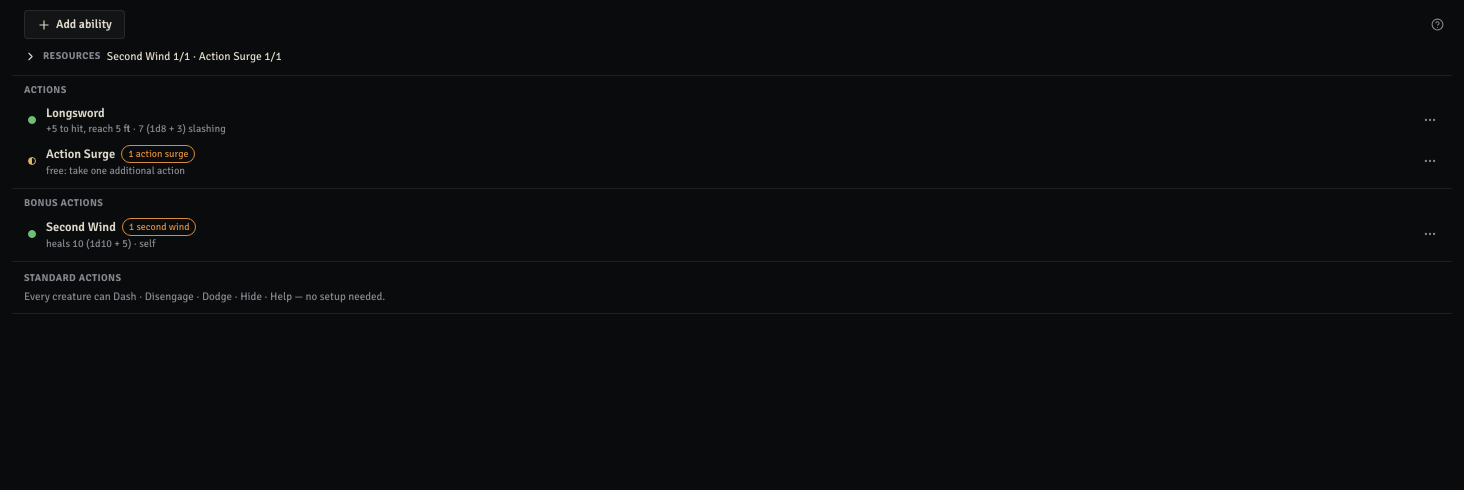
Scenario: controls that were easy to get wrong › keeps a damage line written as an expression, even when it could be dice
Click the button with aria-label "Edit Longsword": (75, 113) [42,100,1410,140]
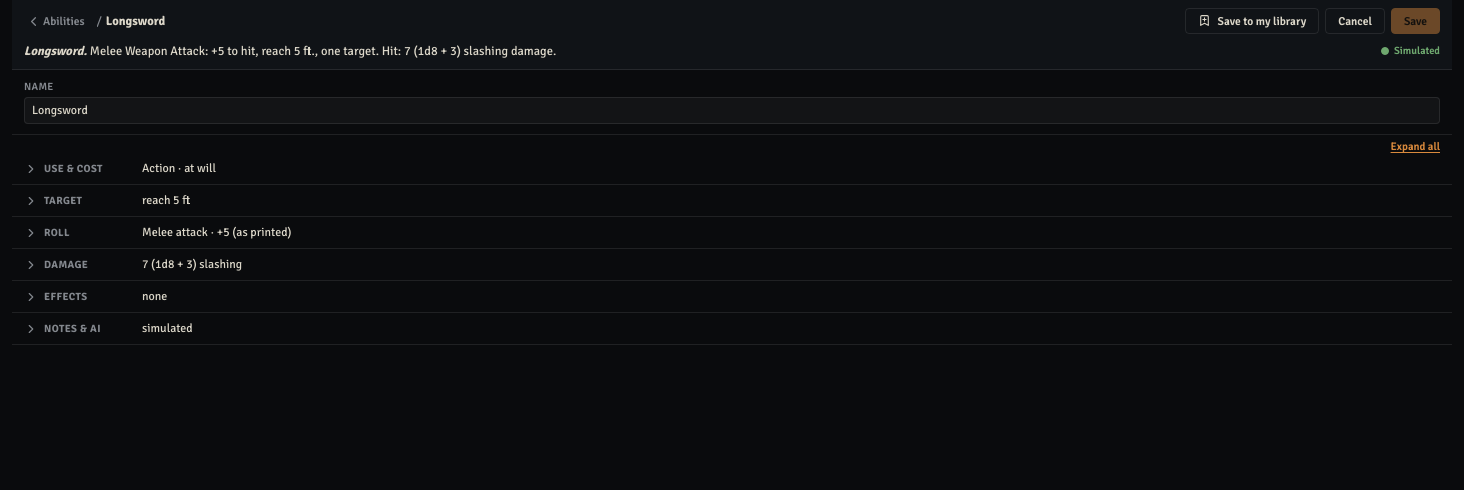
Click the button "Damage 7 (1d8 + 3) slashing": (66, 265) [12,249,1452,280]
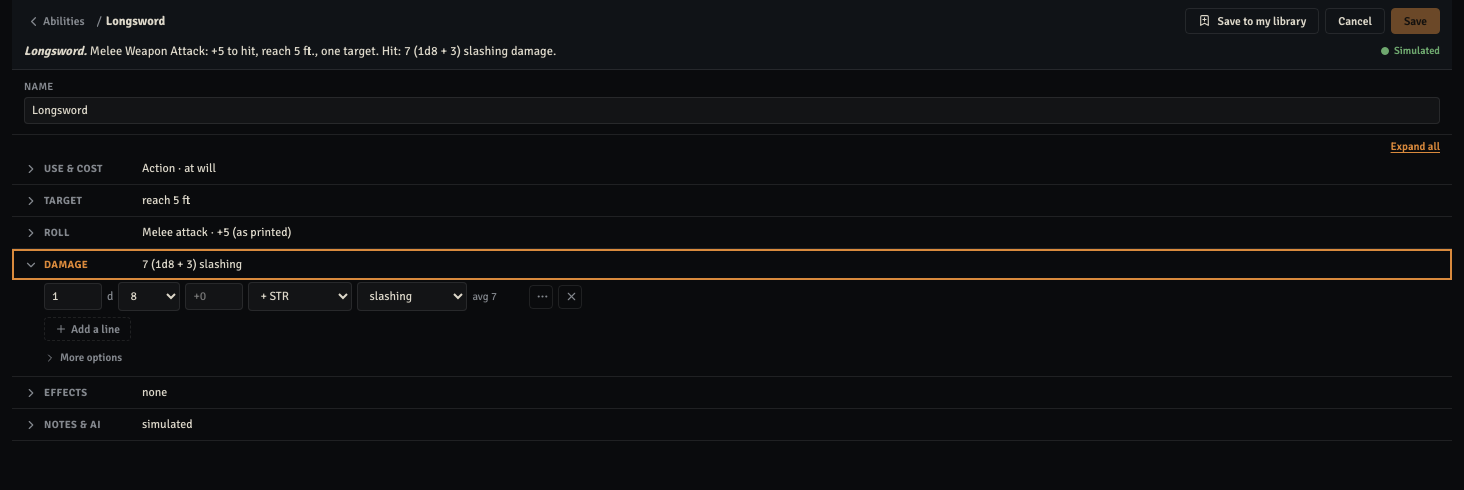
Click the button named "More for damage": (541, 297) [529,285,553,309]
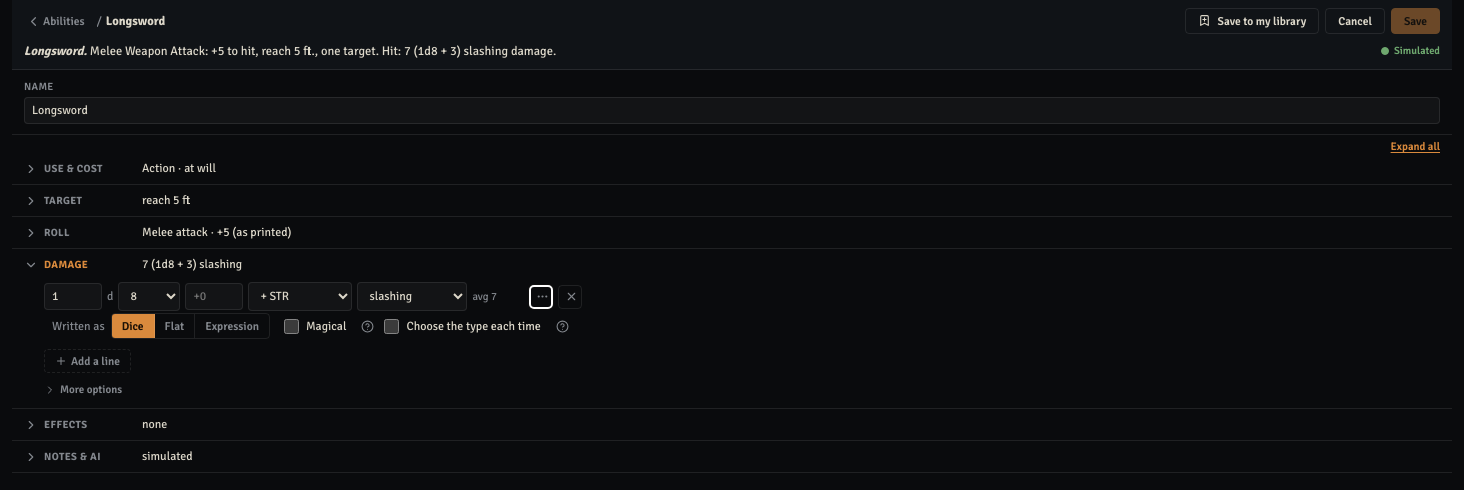
Click the radio button labelled "Expression": (232, 326) [195,314,269,338]
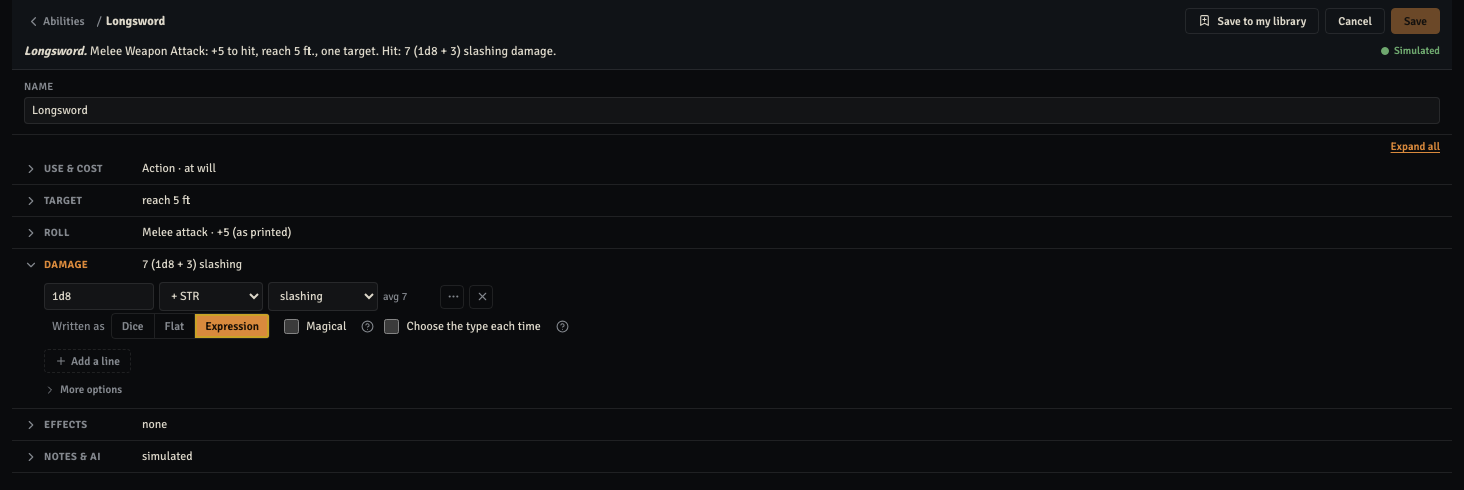
Result: the field named "Damage dice" holds "1d8"
Replace the text in the field named "Damage dice" with "2d6+1d4": (99, 297) [44,283,154,310]
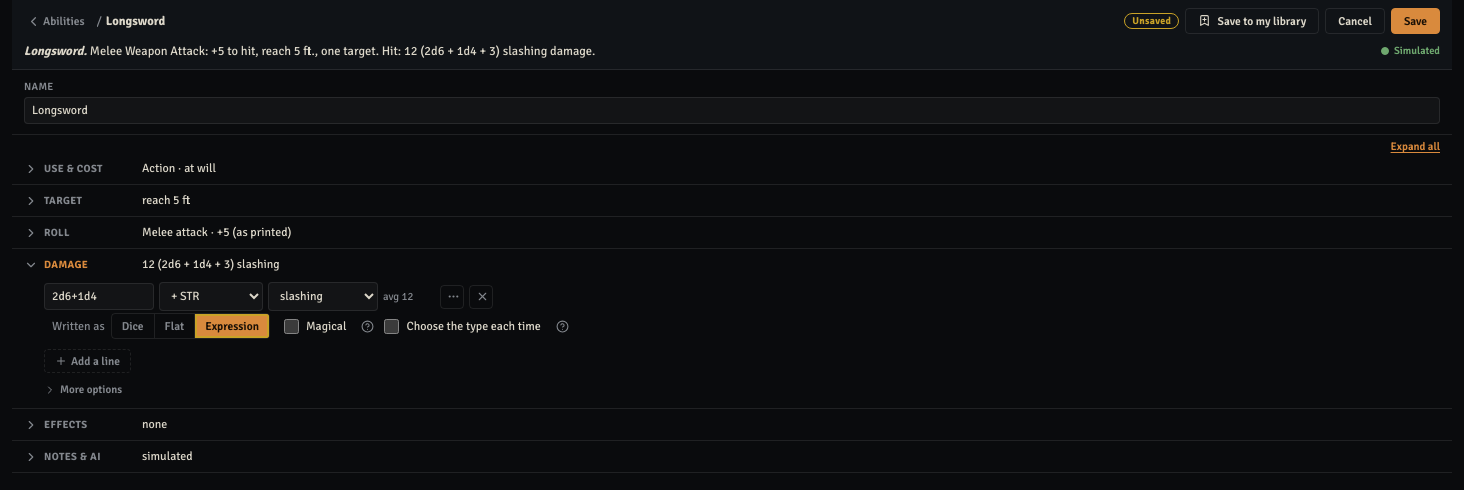
Result: the element named "Preview" shows "(2d6 + 1d4 + 3)" at [90,43,595,59]
